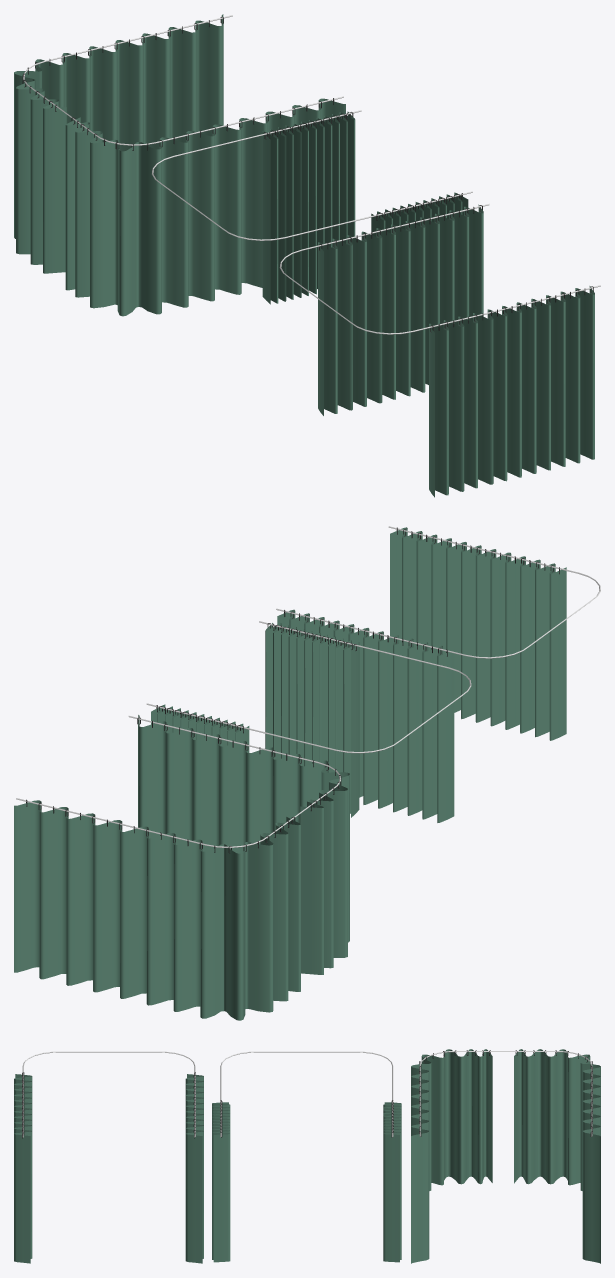
Rendered from Curtains.fbx.
The picture shows the model from 3 angles, top to bottom: view 1: azimuth 30°, elevation 25°; view 2: azimuth 150°, elevation 25°; view 3: azimuth 270°, elevation 25°; orthographic projection. The views are drawn at different scales.
Visible parts, largest first — view 1: CurtainFullR, CurtainHalfR, CurtainFullL, CurtainHalfL, CurtainEmptyL, CurtainEmptyR; view 2: CurtainFullL, CurtainHalfR, CurtainFullR, CurtainHalfL, CurtainEmptyR, CurtainEmptyL; view 3: CurtainFullL, CurtainFullR, CurtainHalfR, CurtainHalfL, CurtainEmptyL, CurtainEmptyR.
Part boxes in pixels (x1=…): CurtainFullR: x1=62, y1=96, x2=345, y2=316; CurtainHalfR: x1=319, y1=285, x2=600, y2=497; CurtainFullL: x1=14, y1=14, x2=232, y2=273; CurtainHalfL: x1=279, y1=203, x2=489, y2=415; CurtainEmptyL: x1=152, y1=110, x2=361, y2=304; CurtainEmptyR: x1=191, y1=191, x2=472, y2=240; CurtainFullL: x1=14, y1=798, x2=300, y2=1020; CurtainHalfR: x1=388, y1=526, x2=600, y2=740; CurtainFullR: x1=128, y1=715, x2=349, y2=974; CurtainHalfL: x1=276, y1=608, x2=560, y2=822; CurtainEmptyR: x1=259, y1=621, x2=471, y2=817; CurtainEmptyL: x1=146, y1=703, x2=430, y2=753; CurtainFullL: x1=506, y1=1049, x2=600, y2=1263; CurtainFullR: x1=411, y1=1049, x2=505, y2=1263; CurtainHalfR: x1=14, y1=1051, x2=108, y2=1263; CurtainHalfL: x1=109, y1=1051, x2=203, y2=1263; CurtainEmptyL: x1=307, y1=1051, x2=401, y2=1262; CurtainEmptyR: x1=212, y1=1051, x2=306, y2=1262.
Size of the model in its own units: 340 by 233 by 950.
